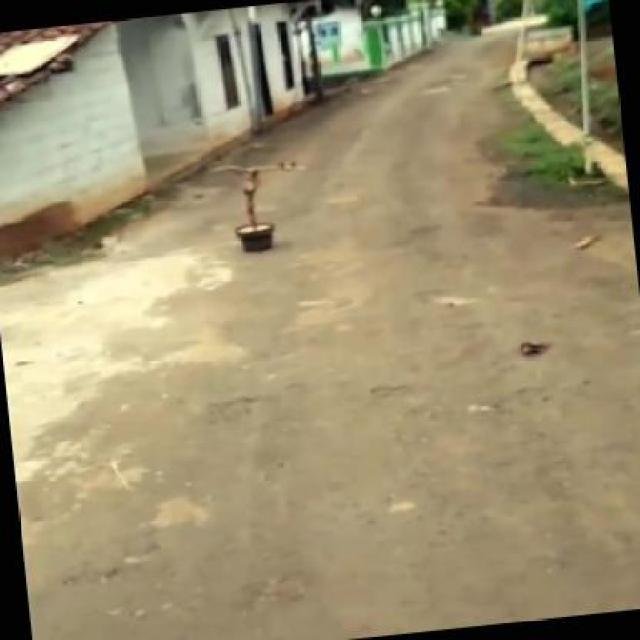Bird: (509, 329, 569, 378)
